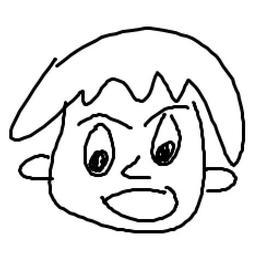ear: (16, 151, 52, 186), (204, 166, 243, 197)
eye: (77, 121, 119, 182), (147, 110, 182, 167)
eyebrow: (74, 112, 135, 132)
frowning_eyebrow: (140, 102, 191, 128)
open_mouth: (97, 185, 189, 222)
pointy_nose: (119, 153, 153, 182)
